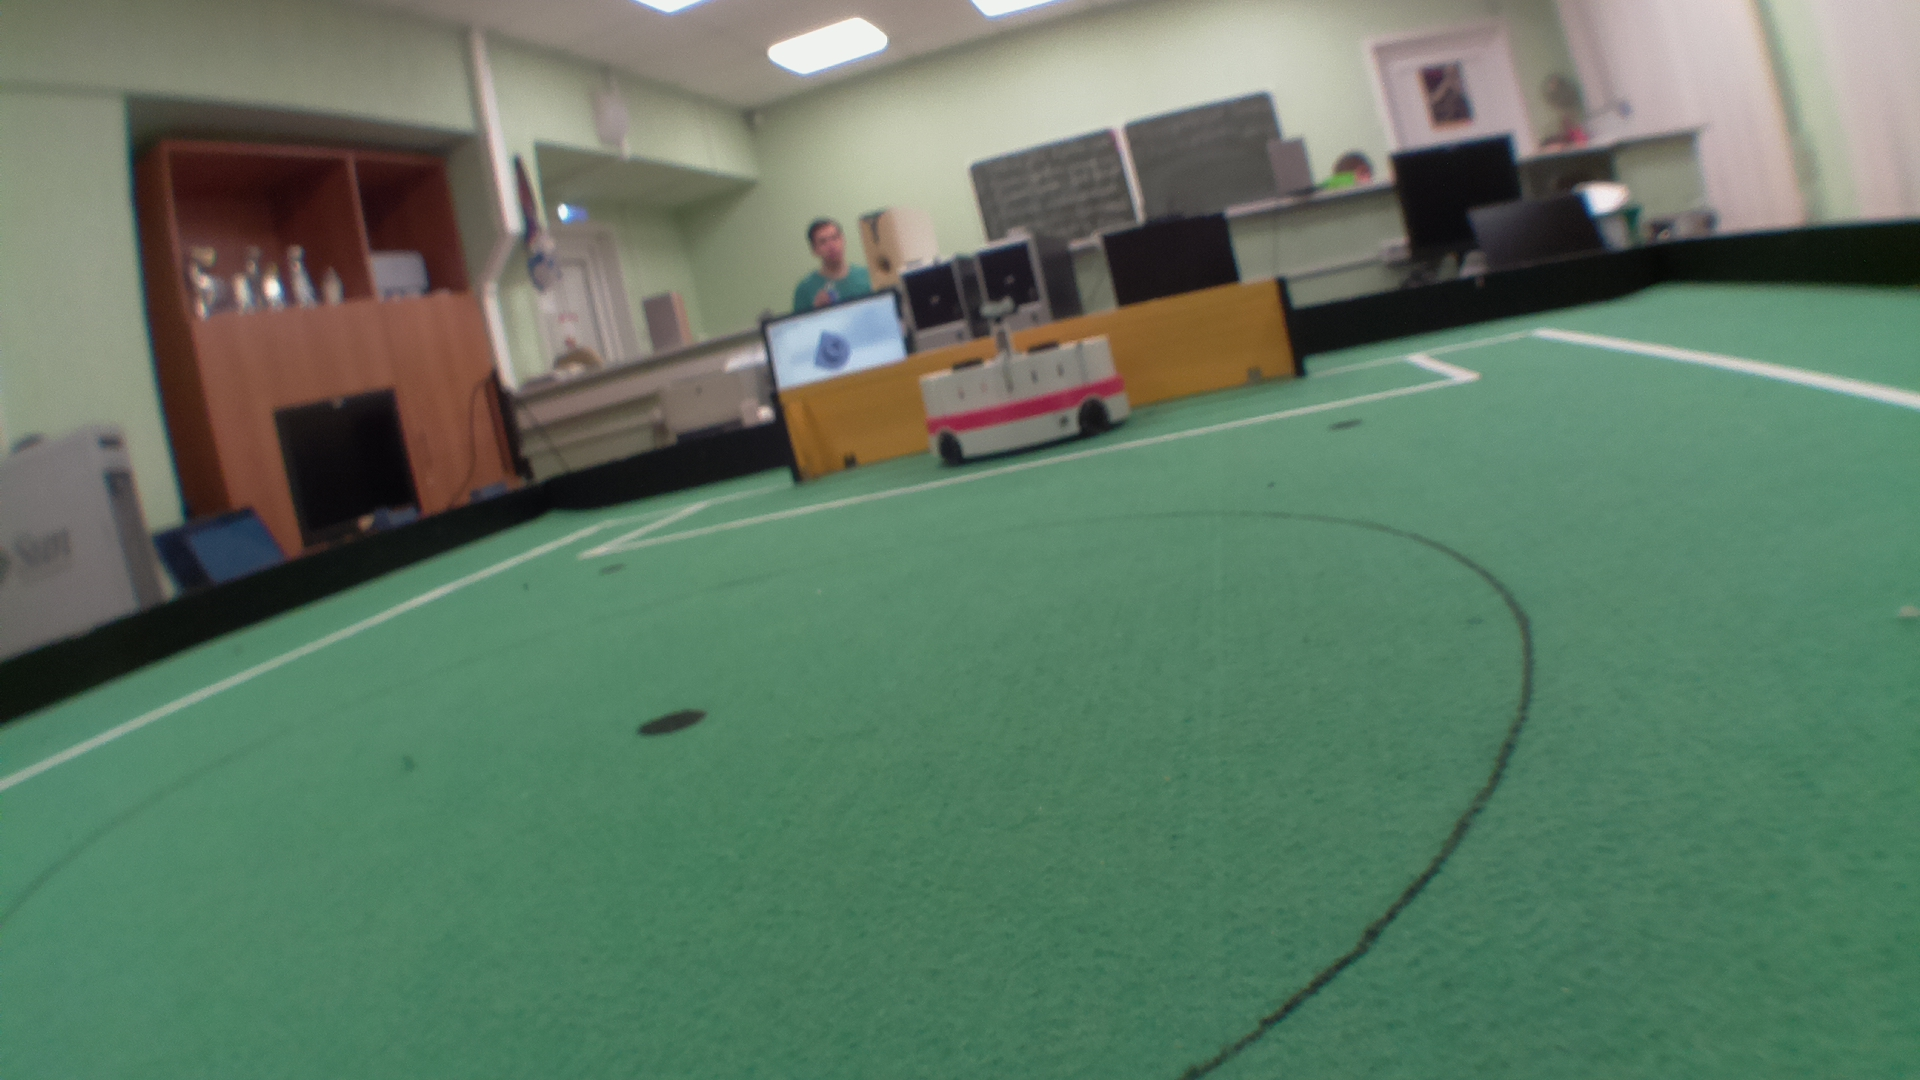YellowGoal: (782, 323, 1302, 450)
